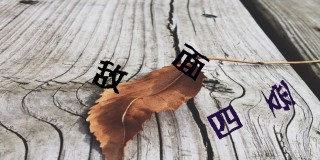受: (260, 79, 296, 118)
四: (207, 104, 243, 139)
敌: (93, 59, 126, 94)
面: (171, 42, 209, 80)
